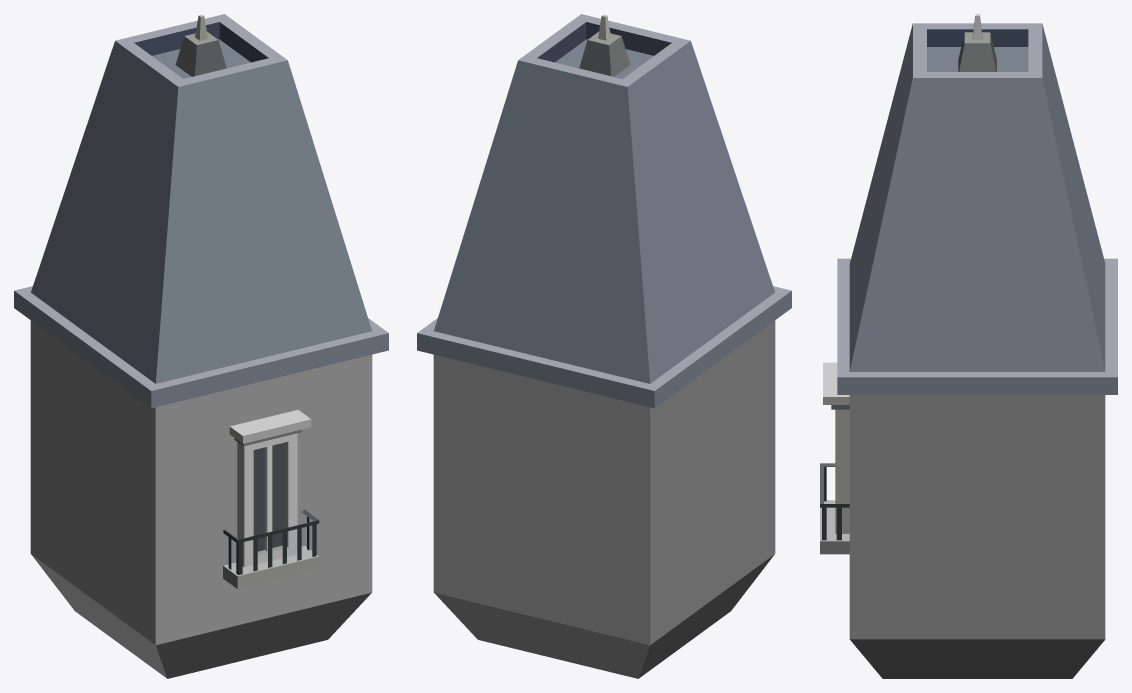
Rendered from TB_CITY_BD_Part_PT_A.FBX.
3 views of the same model, side by side, from view 1: azimuth 30°, elevation 25°; view 2: azimuth 150°, elevation 25°; view 3: azimuth 270°, elevation 25° (orthographic). The views are drawn at different scales.
Parts seen in each view (by area): view 1: TB_CITY_BD_Part_PT_A; view 2: TB_CITY_BD_Part_PT_A; view 3: TB_CITY_BD_Part_PT_A.
Boxes of the visible parts, x1,y1,x2,y2 form: TB_CITY_BD_Part_PT_A: [14, 14, 388, 678]; TB_CITY_BD_Part_PT_A: [417, 14, 791, 678]; TB_CITY_BD_Part_PT_A: [820, 14, 1117, 678].
Size of the model in its own units: 5.7 by 13.98 by 6.05.
